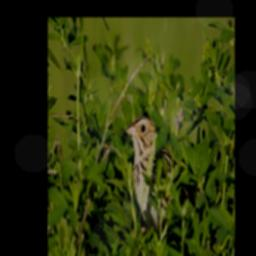Sparrow: (124, 114, 200, 246)
